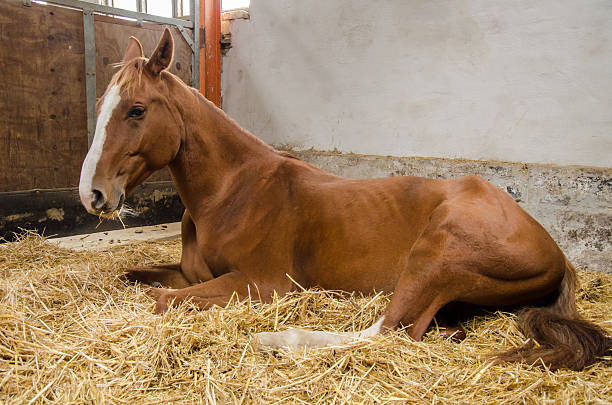Horse: (76, 21, 607, 392)
